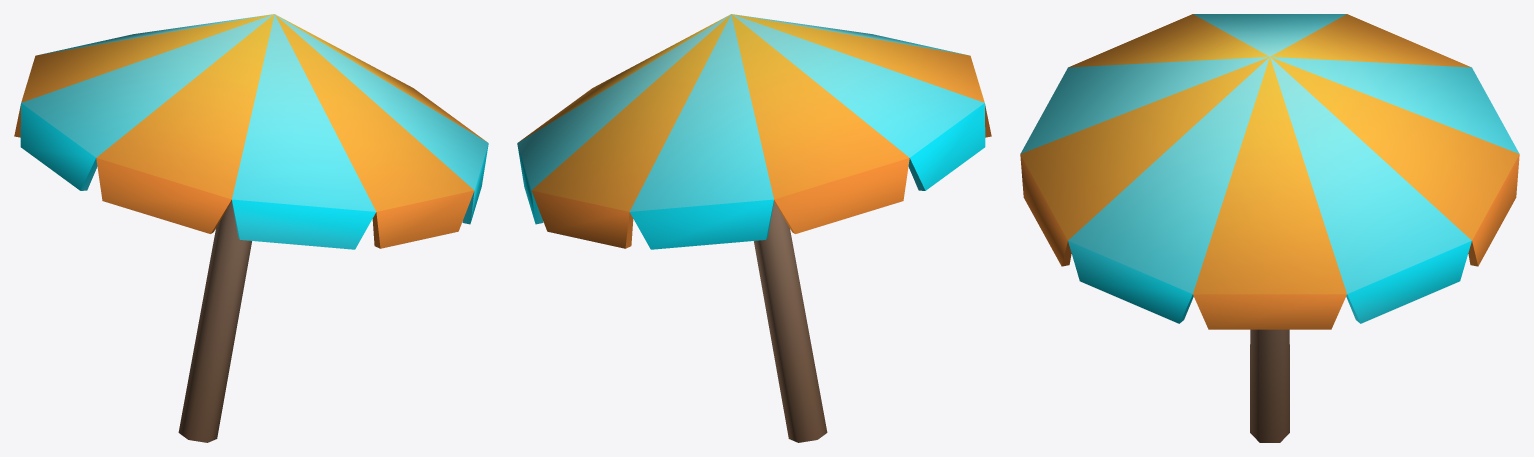
File: Asset_BeachUmbrellaB.glb
3 views of the same model, side by side, from view 1: azimuth 30°, elevation 25°; view 2: azimuth 150°, elevation 25°; view 3: azimuth 270°, elevation 25° (orthographic). The views are drawn at different scales.
Visible parts, largest first — view 1: Mesh.005; view 2: Mesh.005; view 3: Mesh.005.
Boxes of the visible parts, x1,y1,x2,y2 form: Mesh.005: [14, 14, 488, 442]; Mesh.005: [517, 14, 991, 442]; Mesh.005: [1020, 14, 1519, 442].
Size of what is drawn, in the model's own units: 2.52 by 2.44 by 2.64.
1 material, 1 textured.
